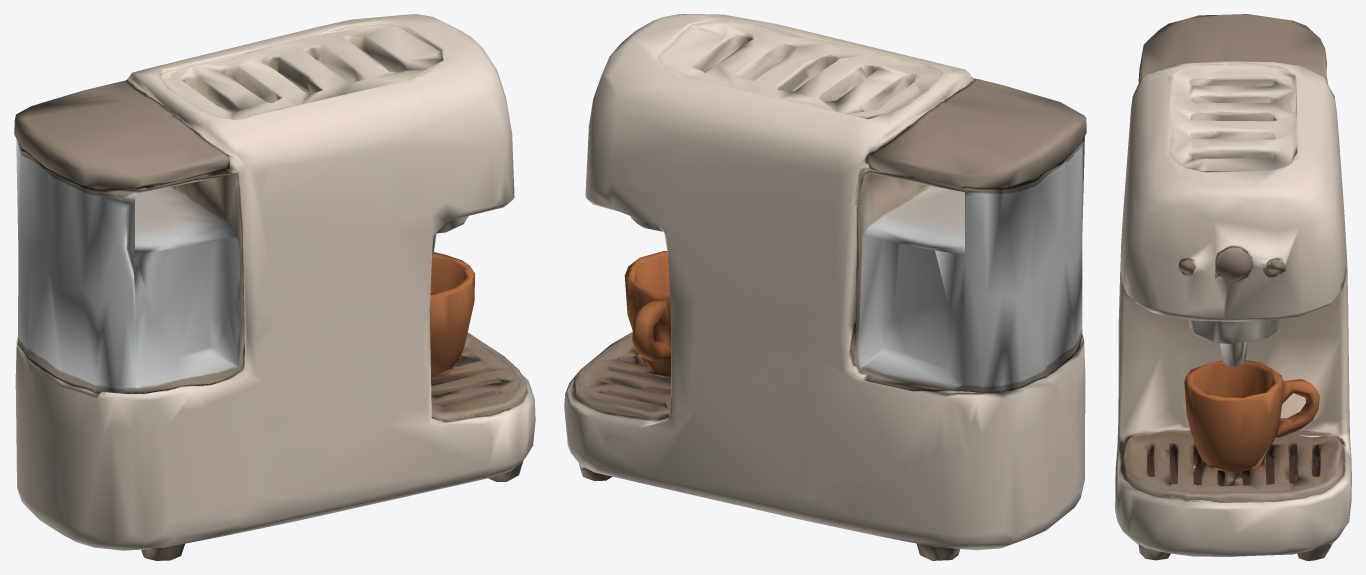
Rendered from cafe.glb.
3 views of the same model, side by side, from view 1: azimuth 30°, elevation 25°; view 2: azimuth 150°, elevation 25°; view 3: azimuth 270°, elevation 25° (orthographic). The views are drawn at different scales.
Visible parts, largest first — view 1: tripo_node_56839943-31f5-4ce6-b197-a7eef3a2b940; view 2: tripo_node_56839943-31f5-4ce6-b197-a7eef3a2b940; view 3: tripo_node_56839943-31f5-4ce6-b197-a7eef3a2b940.
Part boxes in pixels (box(x1,y1,x2,y2)): tripo_node_56839943-31f5-4ce6-b197-a7eef3a2b940: box(14, 14, 535, 560); tripo_node_56839943-31f5-4ce6-b197-a7eef3a2b940: box(564, 14, 1086, 560); tripo_node_56839943-31f5-4ce6-b197-a7eef3a2b940: box(1115, 14, 1351, 560).
Size of the model in its own units: 0.9998 by 0.8462 by 0.4913.
1 material, 1 textured.
